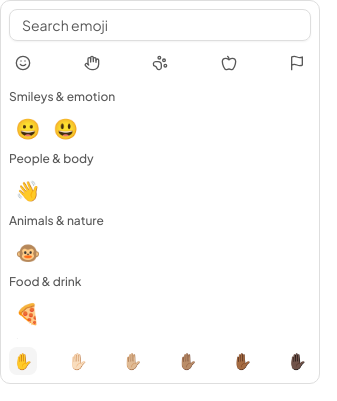
Scenario: EmojiPicker › filters by search and announces the count
Check: the button named "grinning face" is shown, box [9,109,47,147]
Type "pizza" into the search field labelled "Search emoji".
click(160, 25); type("pizza")  # box [9,9,311,41]
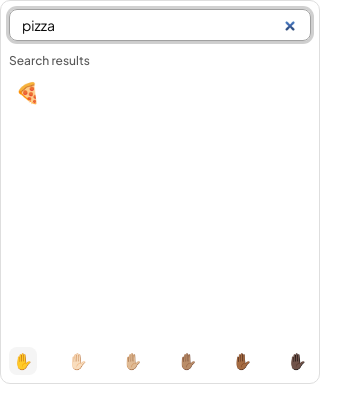
Check: the button named "pizza" is shown, box [9,73,47,111]
Check: the text "Smileys & emotion" is gone
